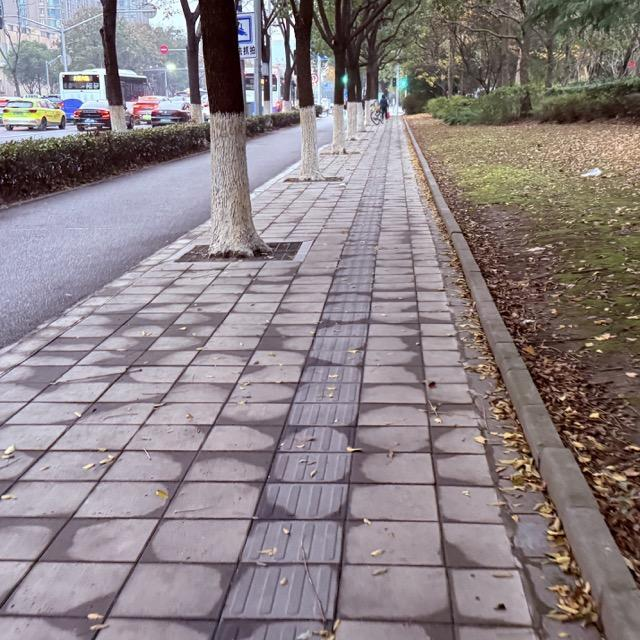curb: (405, 122, 639, 639), (0, 221, 209, 376), (251, 161, 298, 199)
